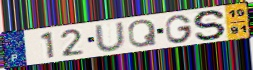1: (40, 30, 56, 60)
2: (59, 28, 87, 58)
G: (163, 14, 194, 44)
Q: (127, 18, 159, 49)
S: (192, 9, 229, 41)
U: (93, 21, 128, 52)
